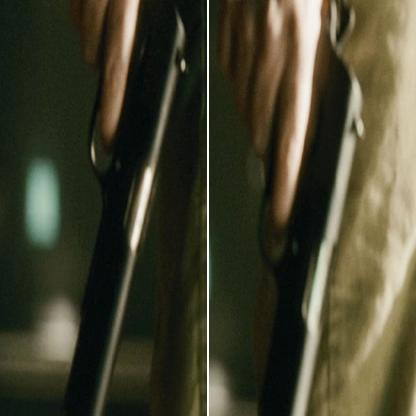gun: (50, 27, 196, 410), (272, 0, 363, 416)
